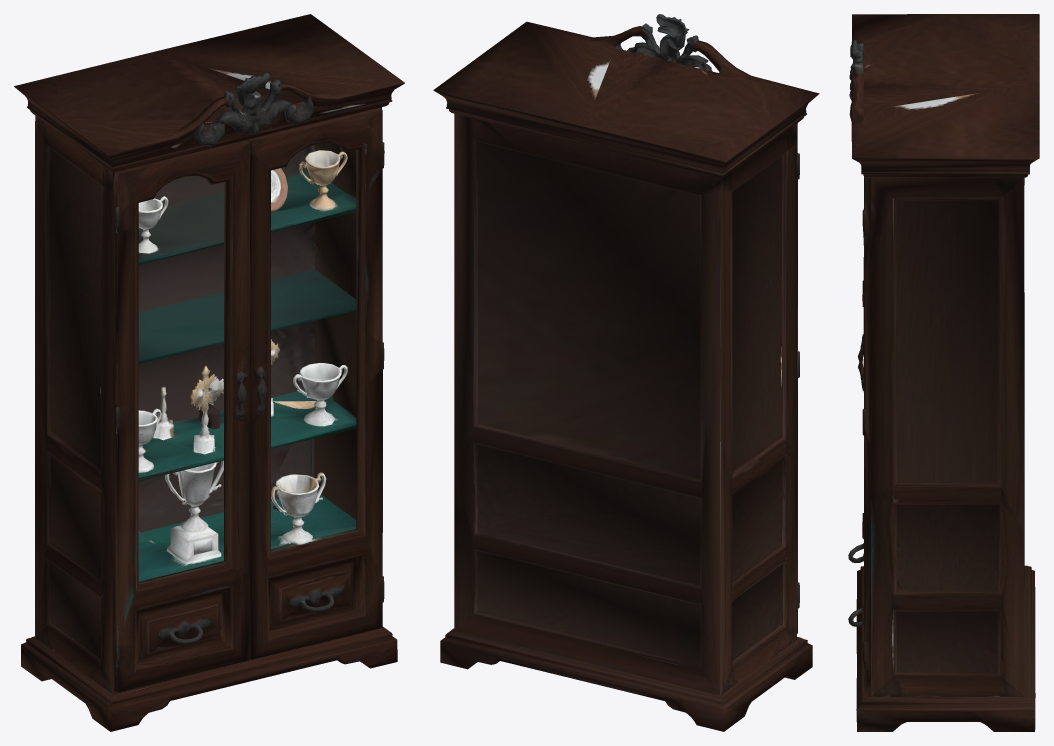
Rendered from trophy_h1.glb.
3 views of the same model, side by side, from view 1: azimuth 30°, elevation 25°; view 2: azimuth 150°, elevation 25°; view 3: azimuth 270°, elevation 25° (orthographic).
Visible parts, largest first — view 1: body; view 2: body; view 3: body.
Part boxes in pixels (<box>): body: <box>14,14,404,731</box>; body: <box>433,14,819,731</box>; body: <box>848,14,1039,731</box>.
Size of the model in its own units: 1.1 by 2.2 by 0.6173.
1 material, 1 textured.
